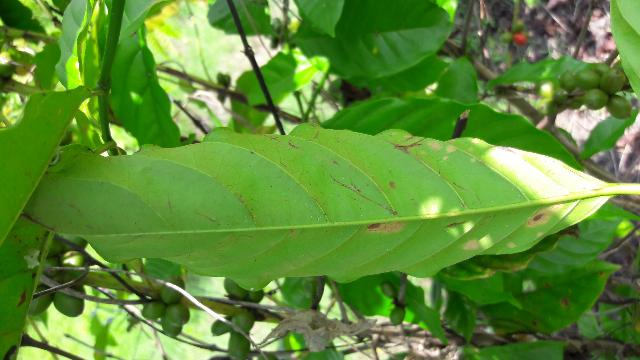red_spider_mite: (25, 122, 616, 289)
